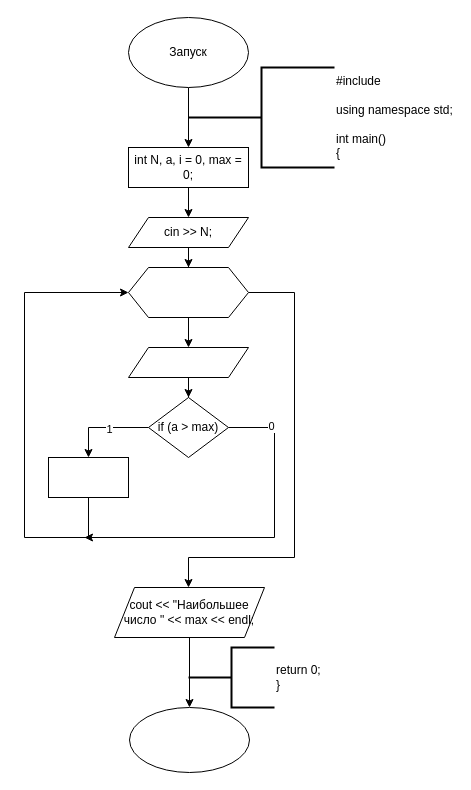
Image size: 471x790. Some labels were removed from this diagram. Here are the shapes that lost their labels. From the top down, the box of each, then its label:
(128, 266, 248, 318): for (int i = 0; i <= N - 1; i++)
(128, 346, 248, 378): cin >> a;
(48, 456, 128, 498): max = a;
(128, 706, 250, 772): Конец
